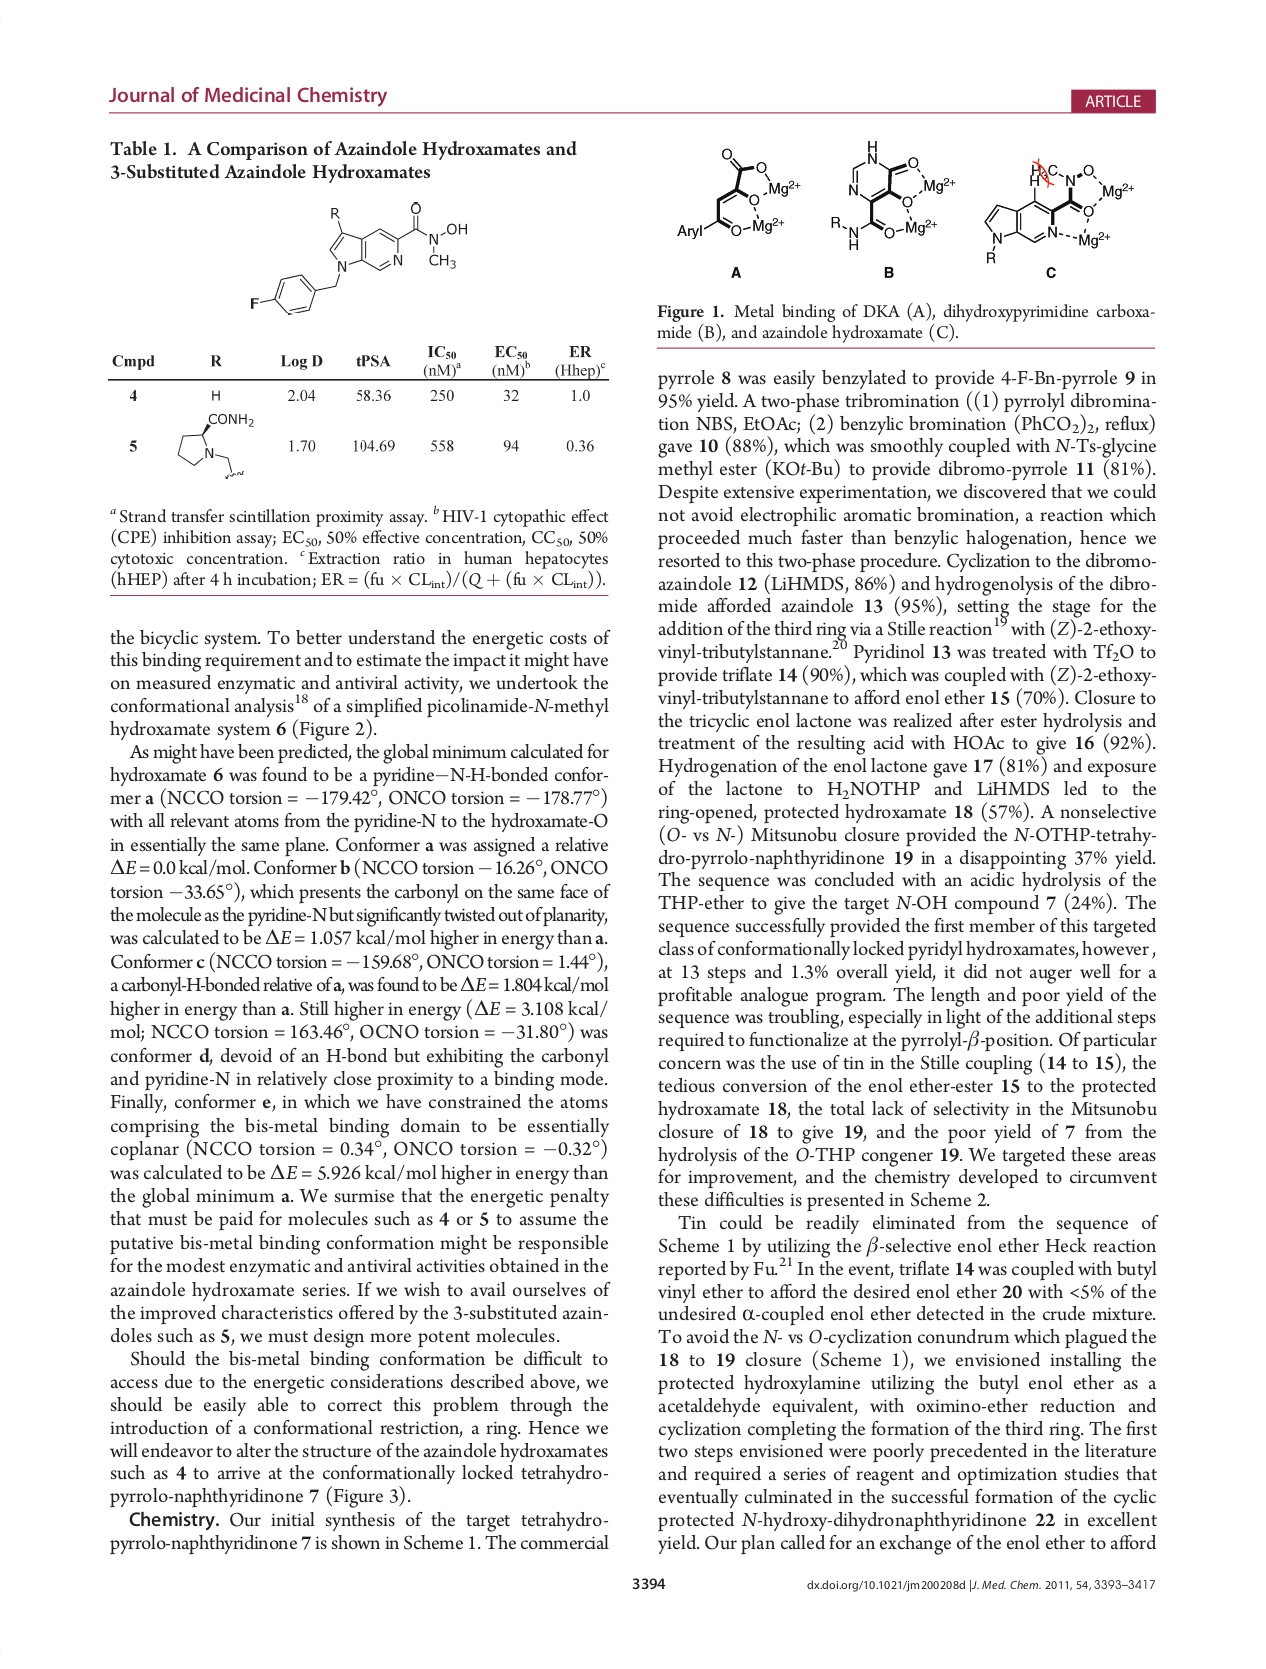exist_molecular: (246, 199, 469, 319), (981, 157, 1134, 265), (826, 137, 956, 251), (673, 144, 802, 243), (174, 410, 257, 480)
